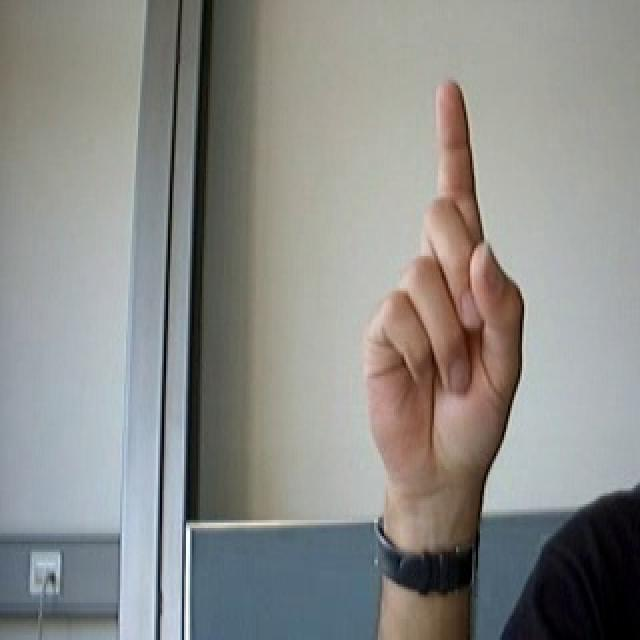D: (363, 57, 546, 519)
